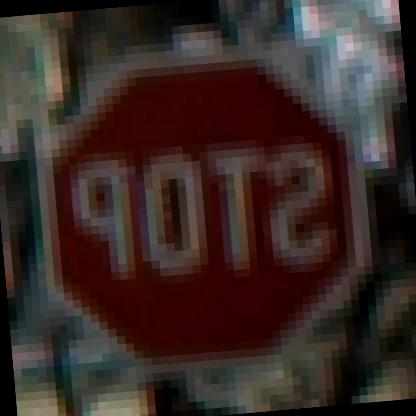stop: (35, 27, 381, 381)
